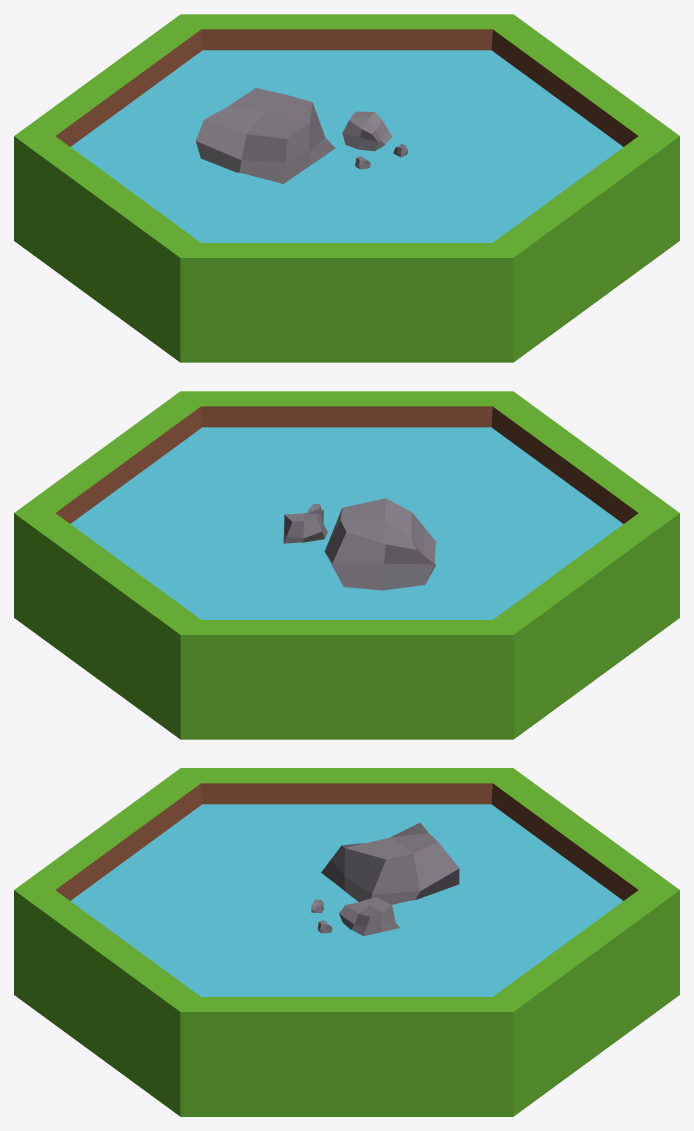
File: Lake.fbx
3 views of the same model, one above another, from view 1: azimuth 30°, elevation 25°; view 2: azimuth 150°, elevation 25°; view 3: azimuth 270°, elevation 25° (orthographic).
Parts seen in each view (by area): view 1: Lake; view 2: Lake; view 3: Lake.
Part boxes in pixels (x1,y1,x2,y2): Lake: [14, 14, 679, 362]; Lake: [14, 391, 679, 739]; Lake: [14, 768, 679, 1116].
Size of the model in its own units: 1 by 0.2495 by 1.15.
